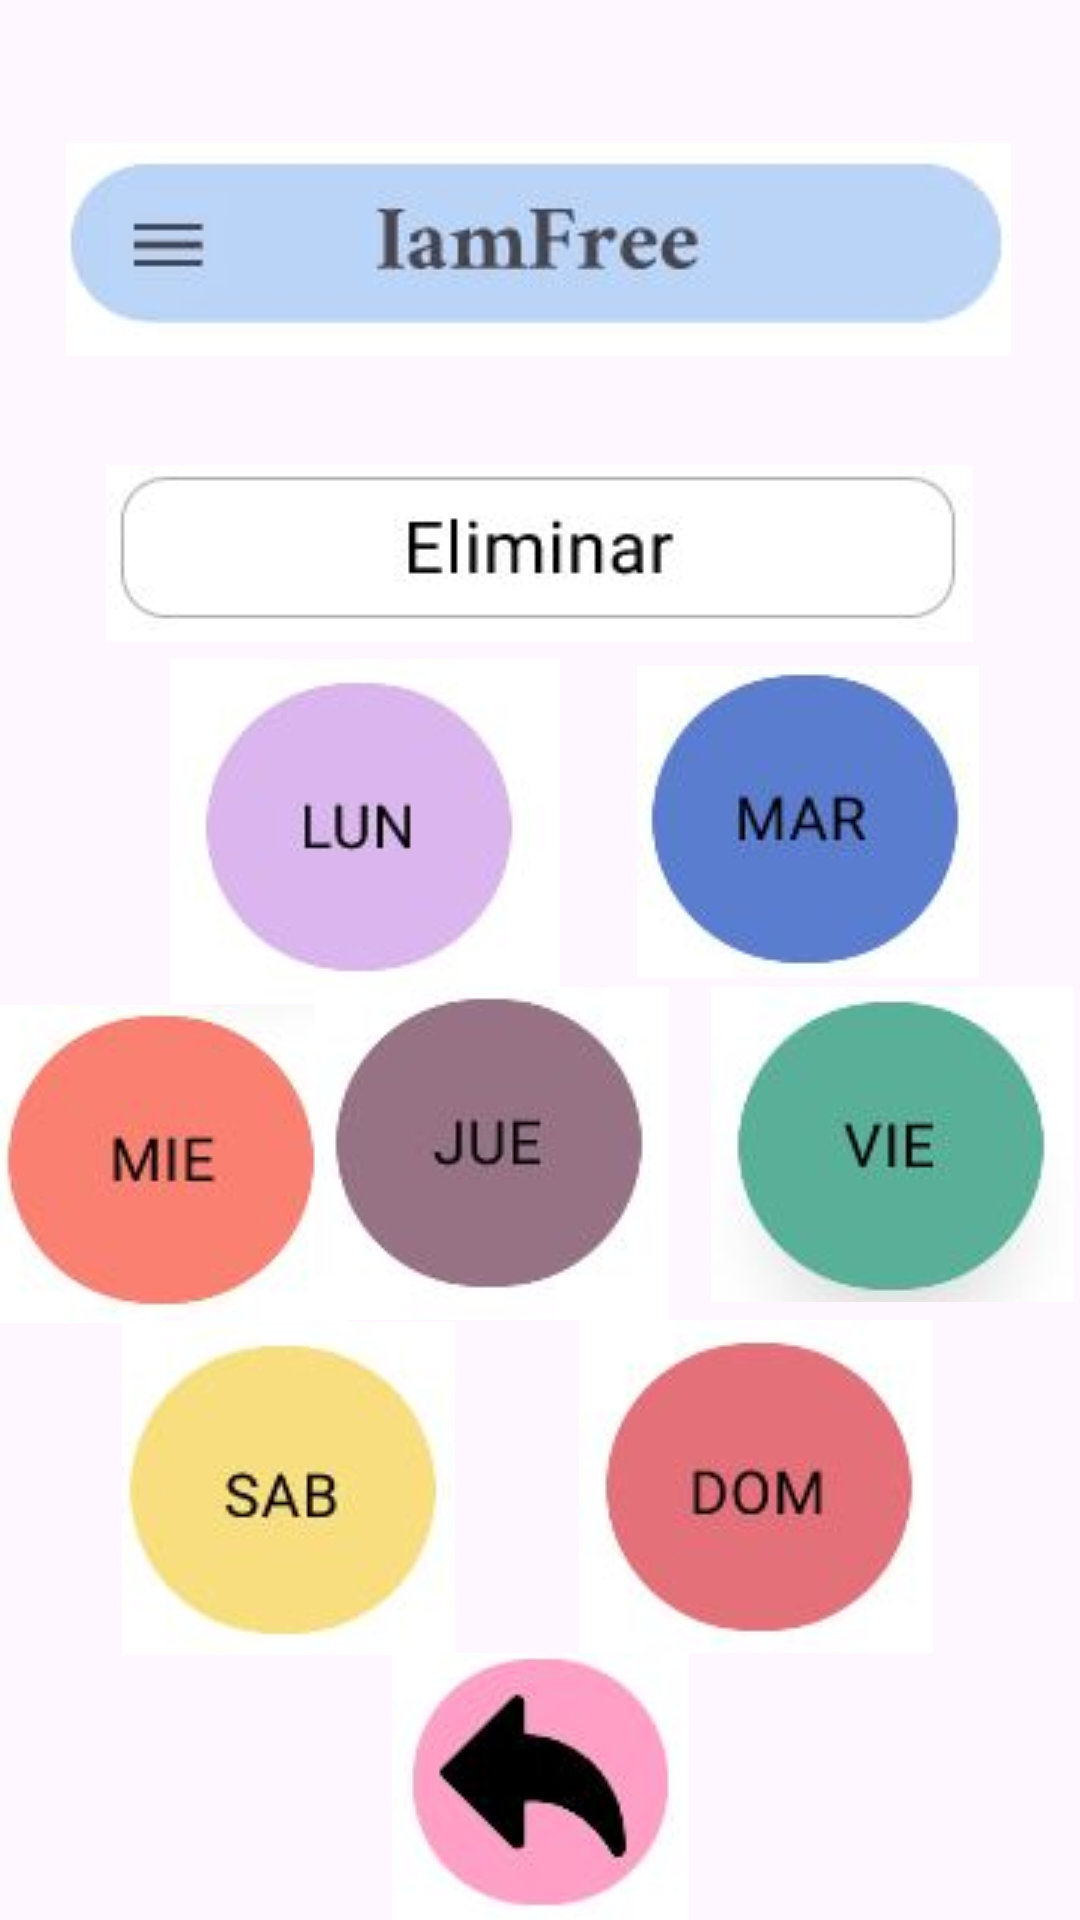

Screen size 1080 x 1920. Icon name, then its box in pixels as rect(x1, y1, x2, y2):
atras: rect(412, 1658, 669, 1906)
